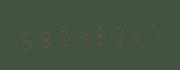four: (71, 21, 88, 50)
nine: (35, 23, 52, 52)
seven: (143, 16, 160, 45)
six: (17, 25, 34, 53)
three: (125, 17, 142, 46)
two: (53, 22, 70, 51), (107, 18, 124, 47), (89, 20, 106, 48)
